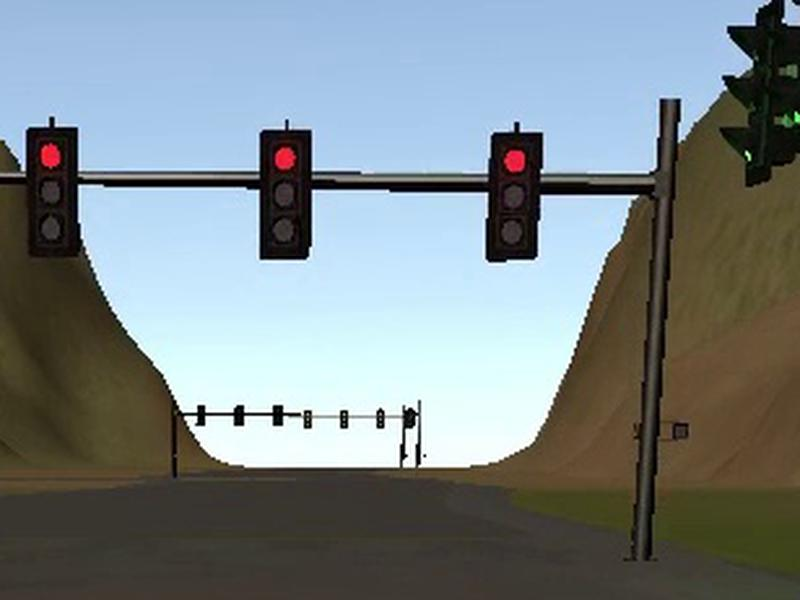Red: (484, 131, 545, 263), (257, 128, 313, 261), (25, 126, 77, 258)
